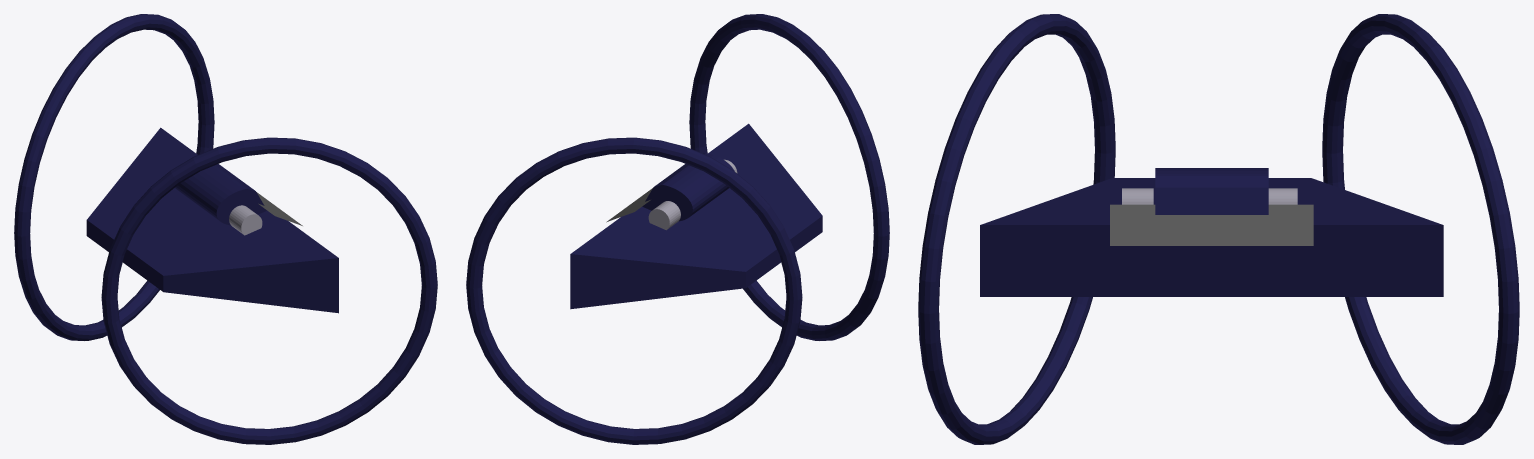
File: cockpit-2.glb
3 renders of one model, left to right at view 1: azimuth 30°, elevation 25°; view 2: azimuth 150°, elevation 25°; view 3: azimuth 270°, elevation 25°, orthographic. The views are drawn at different scales.
Parts seen in each view (by area): view 1: Cone, Torus.001, Torus, Cylinder, Cylinder.002; view 2: Cone, Torus, Torus.001, Cylinder, Cylinder.001; view 3: Cone, Torus, Torus.001, Plane, Cylinder.
Part boxes in pixels (box(x1,y1,x2,y2)): Cone: box(86, 127, 338, 313); Torus.001: box(101, 137, 437, 444); Torus: box(14, 14, 214, 340); Cylinder: box(175, 164, 266, 225); Cylinder.002: box(229, 205, 262, 235); Cone: box(570, 123, 822, 309); Torus: box(466, 137, 802, 444); Torus.001: box(689, 14, 889, 340); Cylinder: box(642, 153, 734, 221); Cylinder.001: box(648, 201, 680, 230); Cone: box(980, 178, 1443, 296); Torus: box(1322, 14, 1519, 444); Torus.001: box(918, 14, 1115, 444); Plane: box(1110, 204, 1313, 245); Cylinder: box(1155, 168, 1268, 214).
Bounding box in the file's own units: 9.56 × 10.5 × 14.38.
